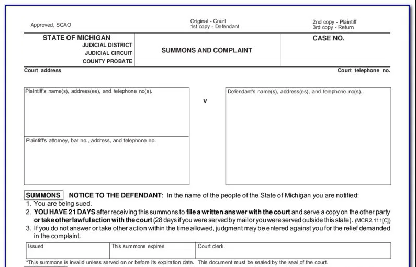textbox: (223, 86, 393, 186), (23, 86, 190, 138), (22, 135, 190, 186), (279, 31, 391, 69), (195, 240, 393, 261), (107, 239, 197, 260), (24, 240, 111, 260)
